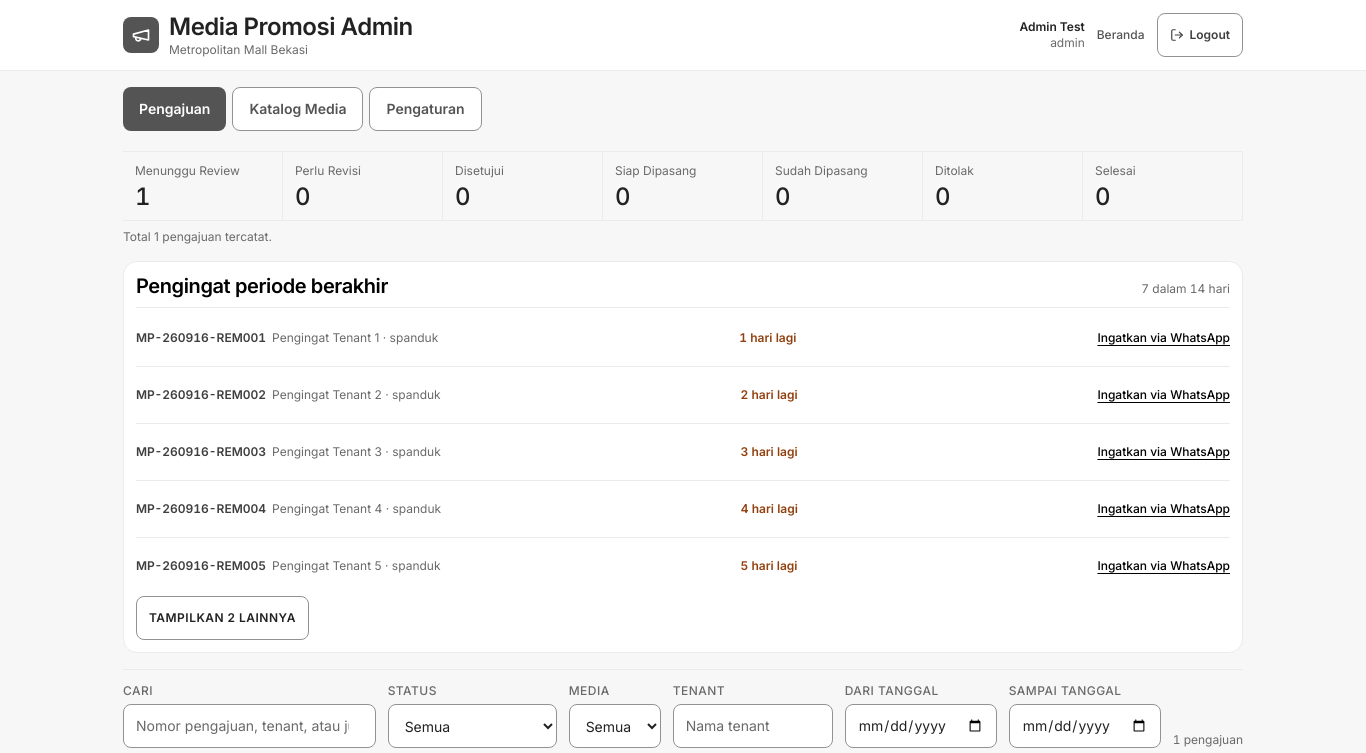
AdminDashboardPage — pengingat periode berakhir dapat dibuka lengkap › setelah tombol diklik: ketujuh item tampil dan tombol menjadi "Sembunyikan"
Expected: the heading "Pengingat periode berakhir" is shown, [136,274,388,299]
Click the button "Tampilkan 2 lainnya" at (222, 618), box [136,596,309,640]
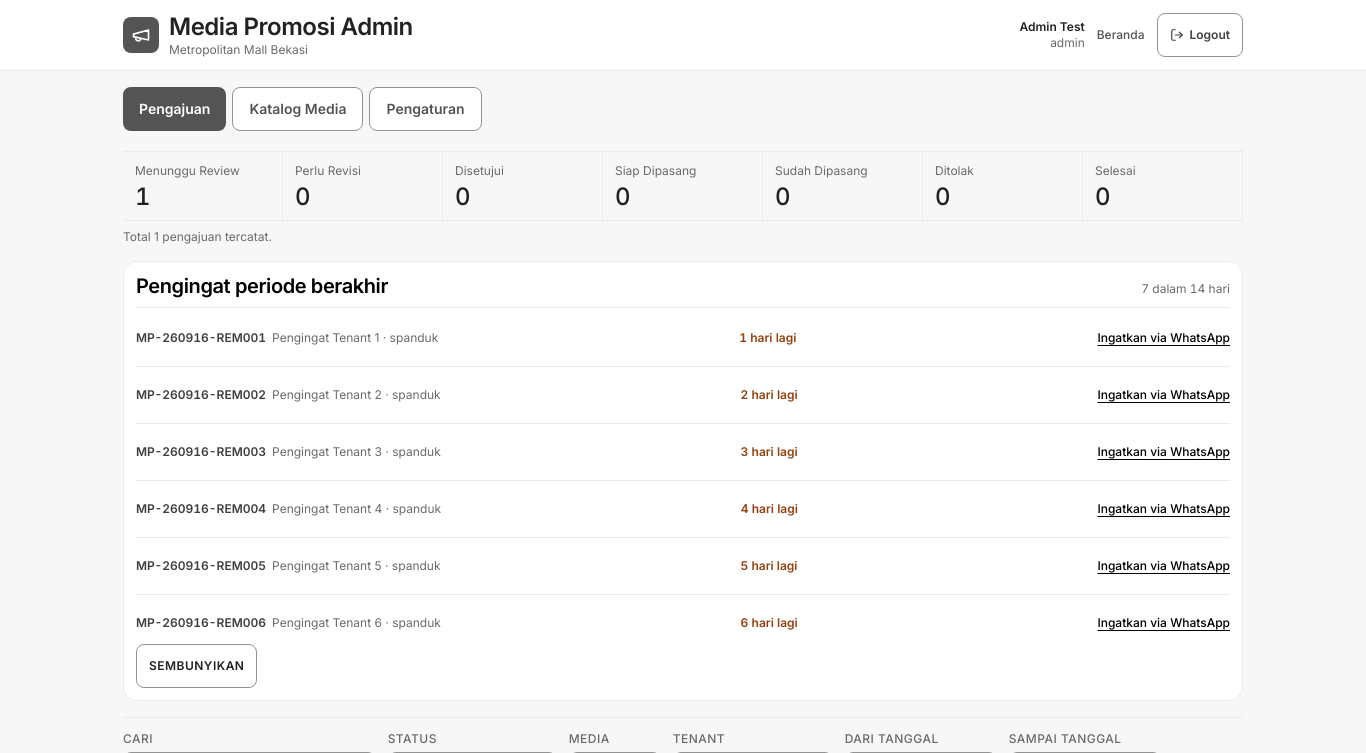
Now the text "Pengingat Tenant 6 · spanduk" is shown, box [272,615,441,630]
Now the button "Sembunyikan" is expanded
Kembali ke 5 baris saat "Sembunyikan" diklik.
Click the button "Sembunyikan" at (197, 666), box [136,644,257,688]
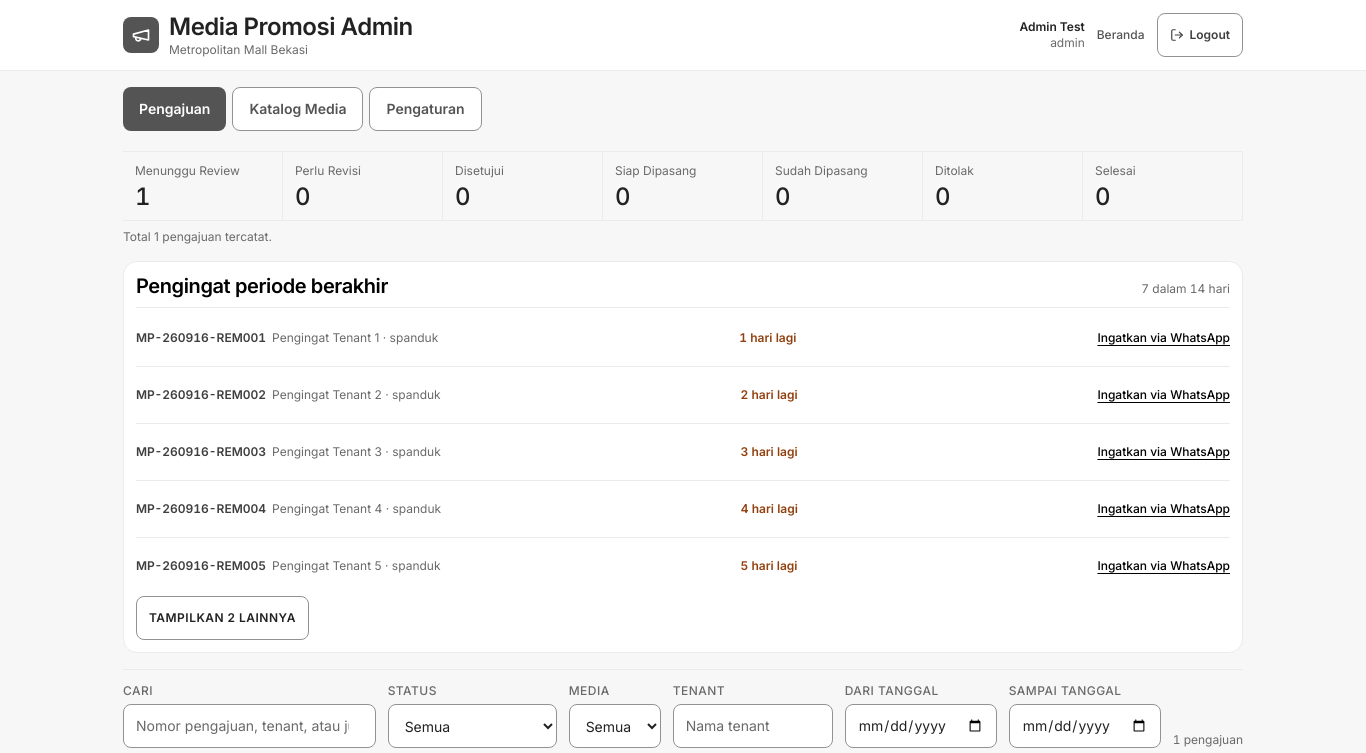
Now the number of list items is 5, box [136,316,1230,367]; [136,373,1230,424]; [136,430,1230,481]; [136,487,1230,538]; [136,544,1230,588]
